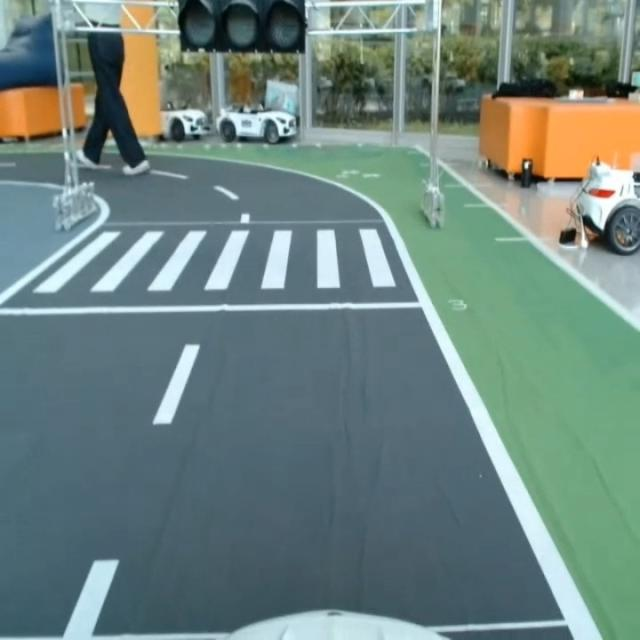traffic-light: (175, 0, 308, 57)
